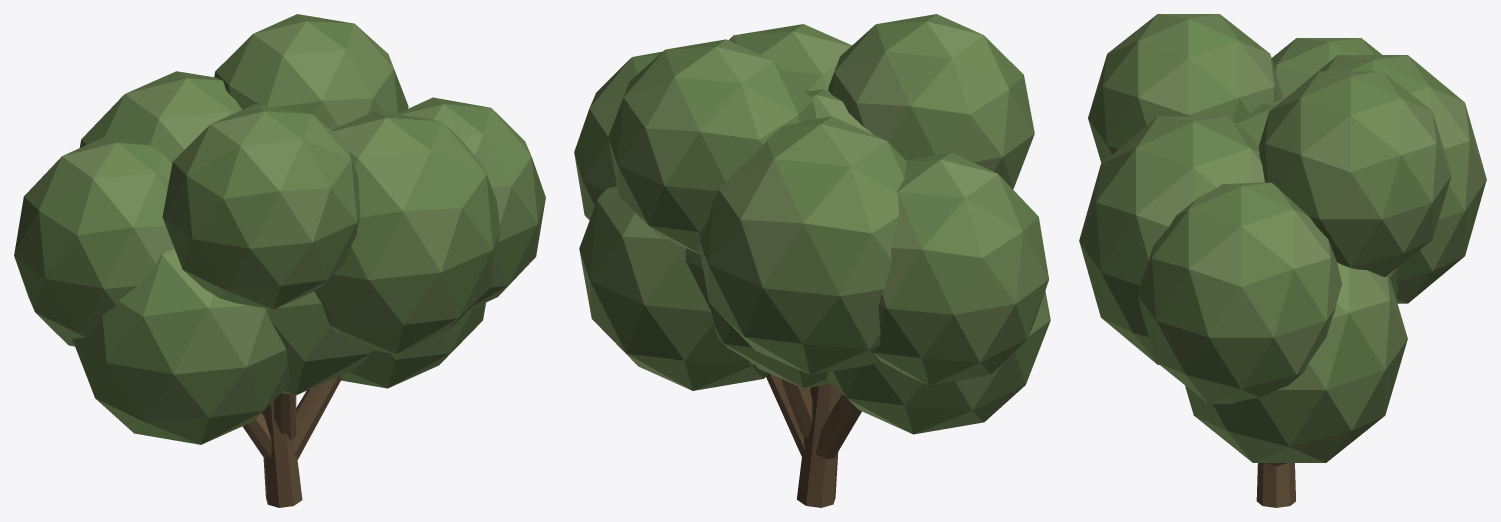
File: 0-20261016-1900-ev059-r11-exterior-shrub.fbx
3 renders of one model, left to right at view 1: azimuth 30°, elevation 25°; view 2: azimuth 150°, elevation 25°; view 3: azimuth 270°, elevation 25°, orthographic. The views are drawn at different scales.
Parts seen in each view (by area): view 1: SW_Exterior_Shrub; view 2: SW_Exterior_Shrub; view 3: SW_Exterior_Shrub.
Boxes of the visible parts, left/top/right/bottom form: SW_Exterior_Shrub: left=14, top=14, right=545, bottom=507; SW_Exterior_Shrub: left=574, top=14, right=1050, bottom=507; SW_Exterior_Shrub: left=1079, top=14, right=1486, bottom=507.
Bounding box in the file's own units: 126 × 115 × 93.
